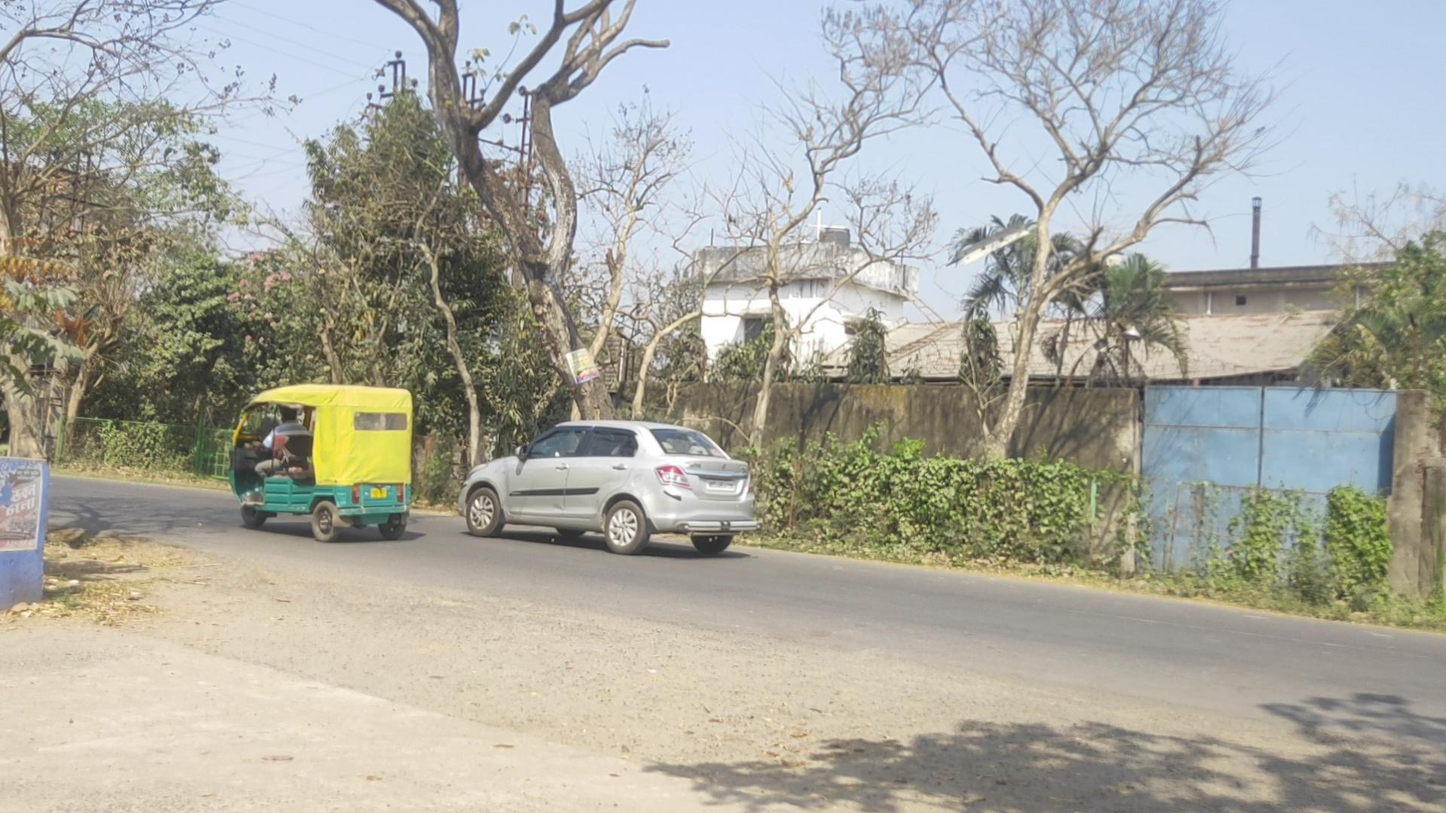Auto: (229, 384, 413, 542)
car: (458, 419, 760, 555)
